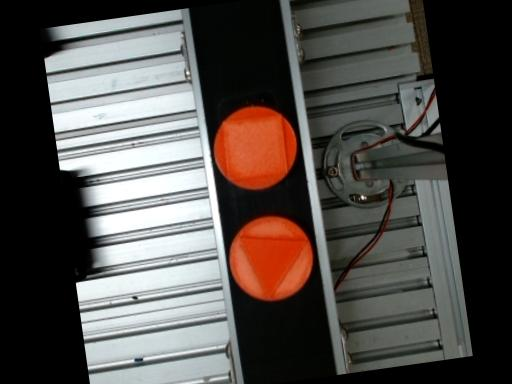Not_Square: (237, 237, 308, 301)
Orange_Waper: (229, 215, 312, 301), (213, 106, 296, 190)
Square: (222, 114, 287, 179)
